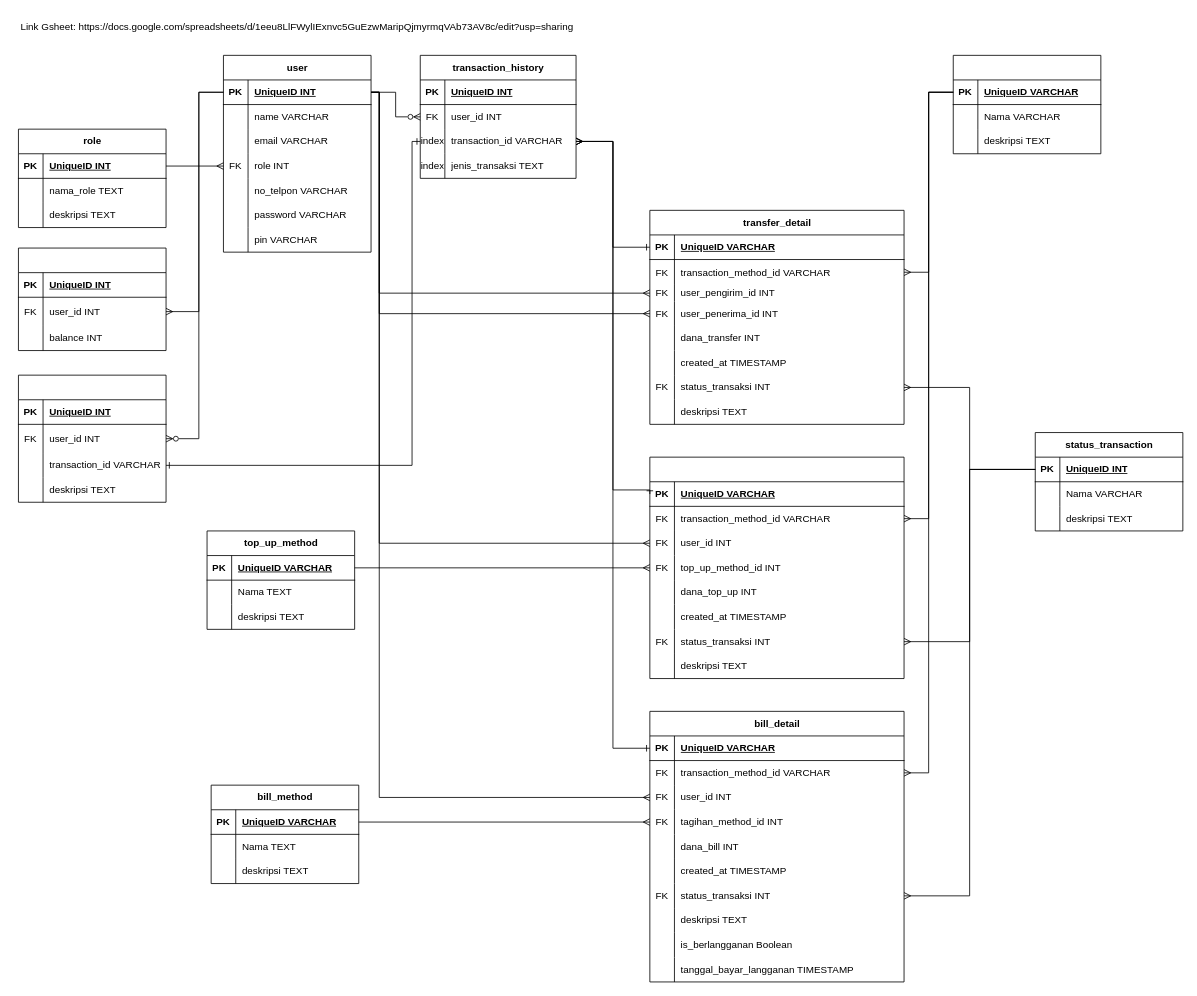
Some shapes in this 1197 by 996 pixel diagram are drawn without their labels. The box of each missing label's shape, as (x1, y1, x2, y2) in pixels:
Subscription: (18, 374, 166, 502)
top_up_detail: (649, 456, 904, 679)
transaction_method: (952, 55, 1101, 154)
Wallet: (18, 247, 166, 351)
